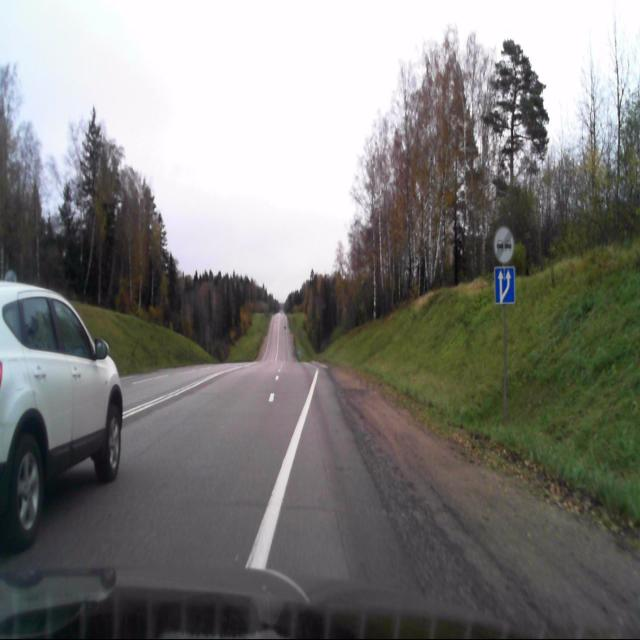object: (504, 308, 508, 414)
road sign: (494, 268, 514, 303)
